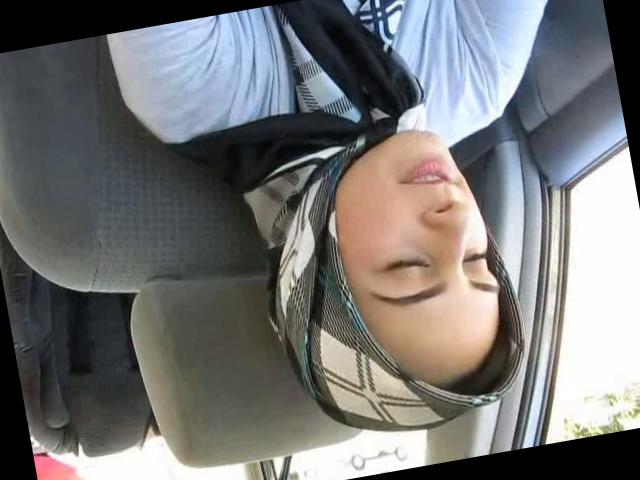eye_closed: (376, 250, 435, 285), (461, 244, 492, 272)
face: (340, 118, 505, 332)
